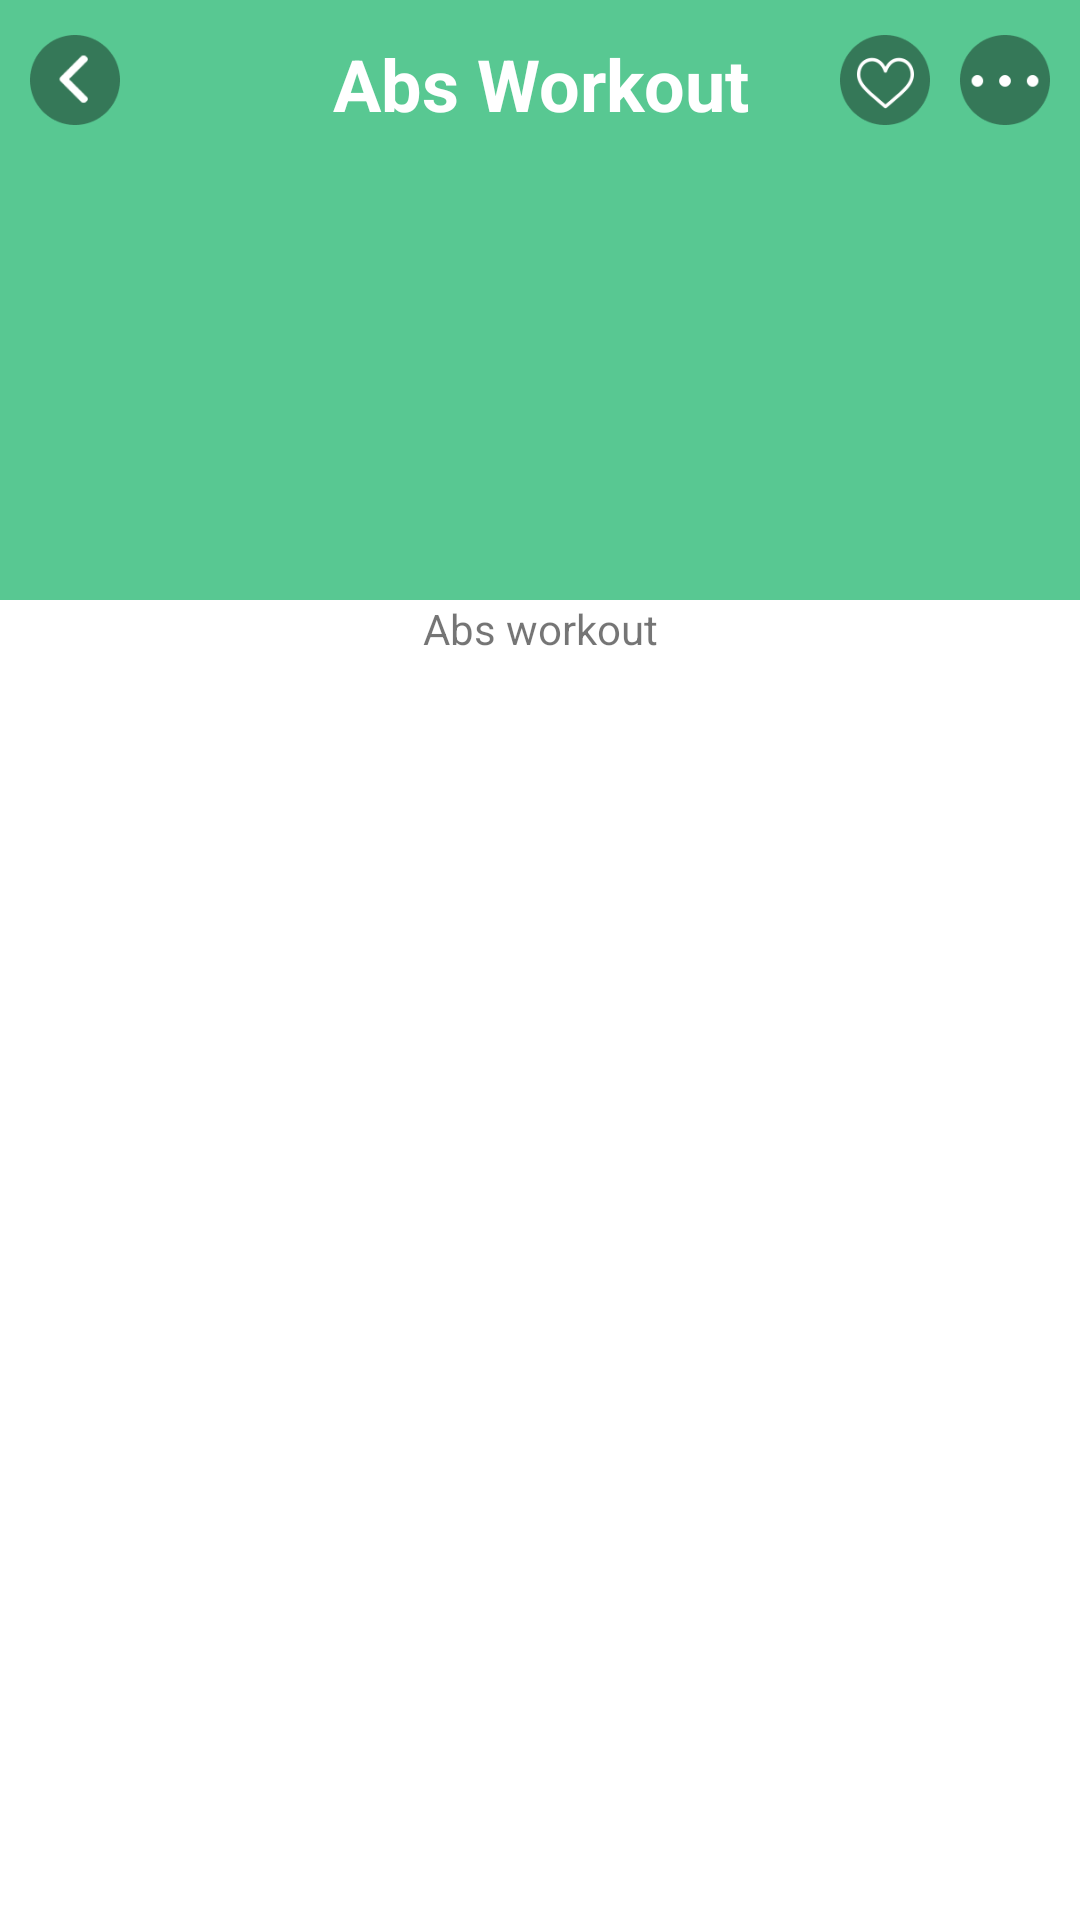

Icon bounding boxes for this 1080 × 1920 phone screenshot, format (x1, y1, x2, y2):
back arrow list data: (30, 35, 120, 125)
favorite list data: (840, 35, 930, 125)
more list data: (960, 35, 1050, 125)
